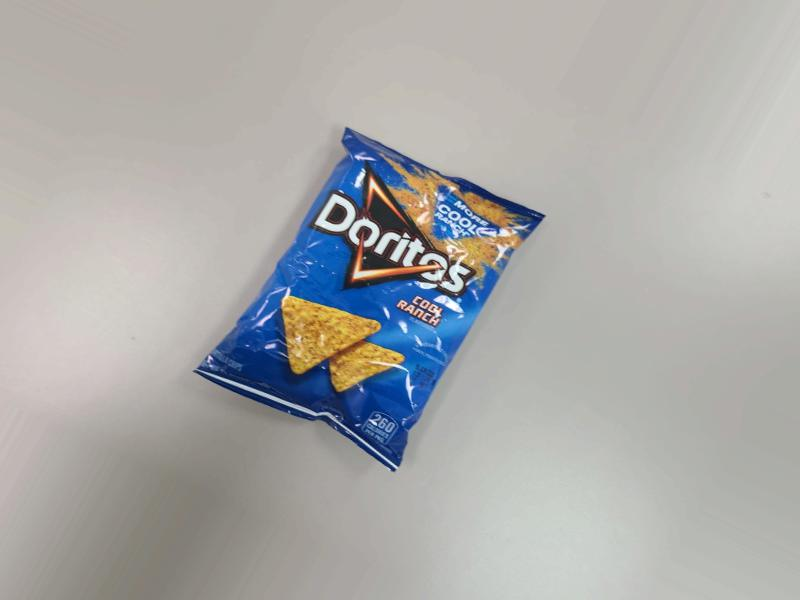doritos: (199, 130, 542, 474)
